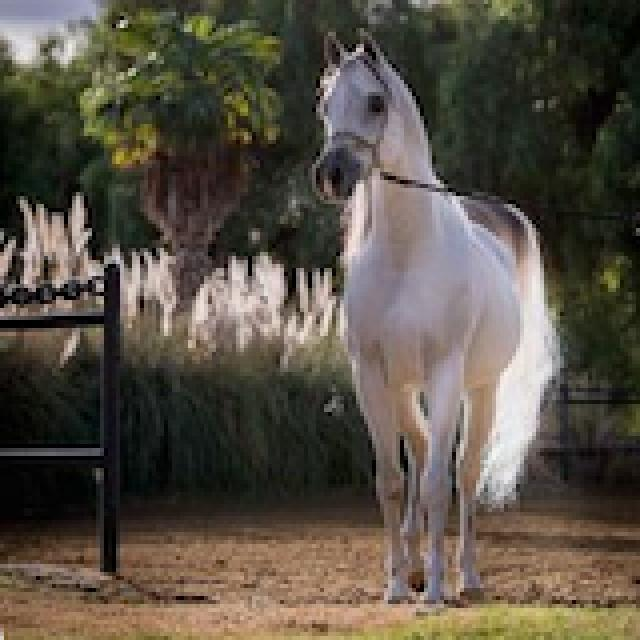Horse: (304, 28, 564, 608)
